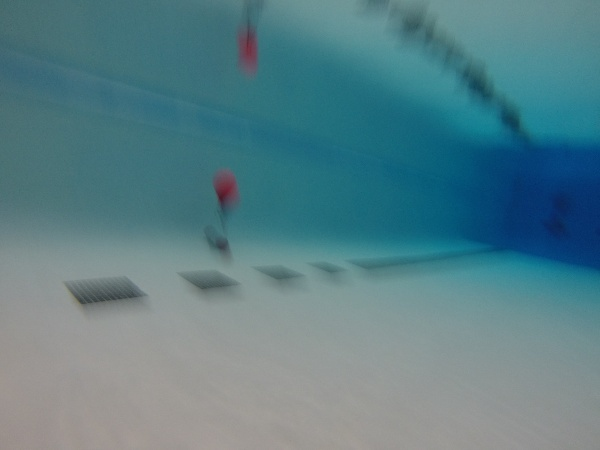buoy_red: (210, 168, 239, 206)
